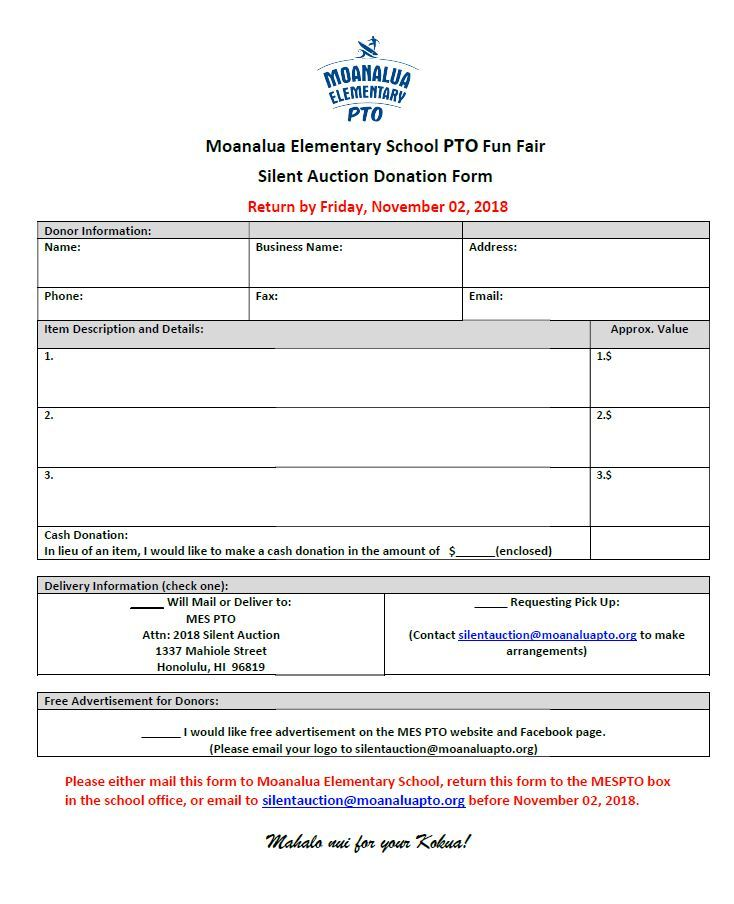textbox: (31, 342, 595, 411), (34, 402, 598, 471), (35, 462, 599, 531), (458, 232, 714, 291), (246, 233, 470, 291), (33, 237, 253, 291), (456, 281, 714, 324), (243, 280, 470, 326), (33, 280, 255, 326), (585, 341, 713, 410), (588, 403, 716, 472), (588, 462, 716, 531)
textline: (139, 715, 183, 742), (453, 537, 496, 560), (127, 595, 167, 617), (475, 597, 510, 614)
